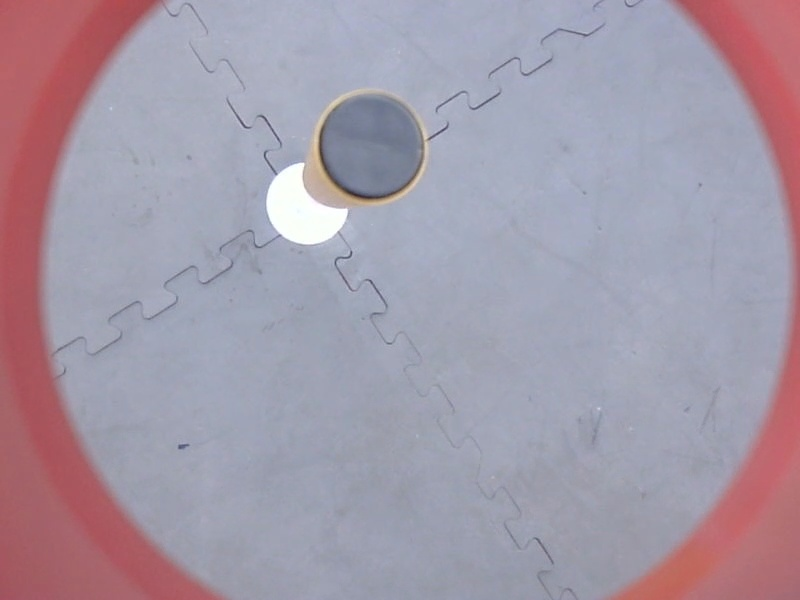tip: (311, 83, 437, 211)
